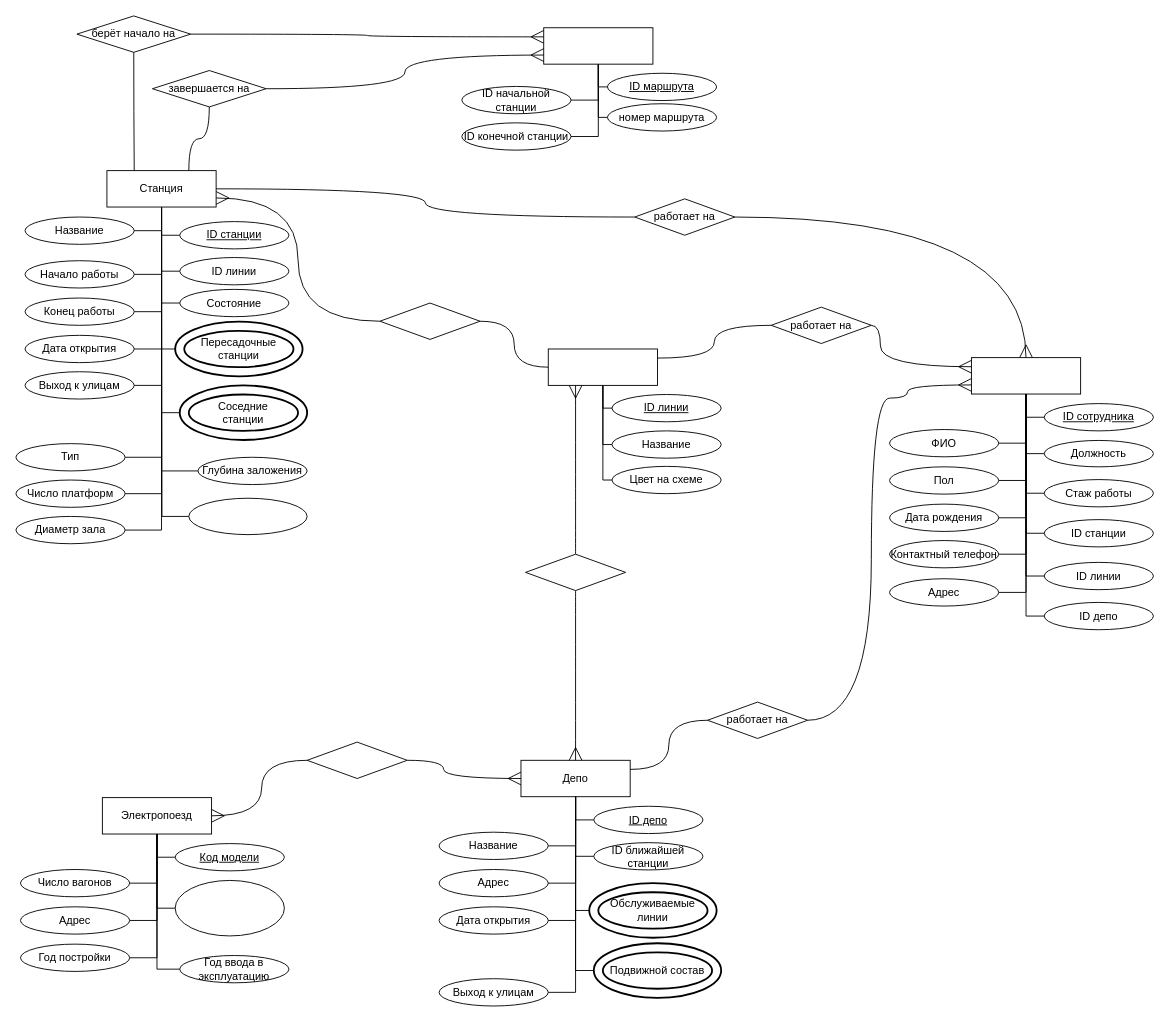
Image size: 1169x1022. Some labels were removed from this diagram. The centre of each missing label's shape, as x and y in pixels:
"входит в" goes at pixel 429 320.
"Линия" goes at pixel 602 366.
"Маршрут" goes at pixel 598 45.
"обслуживается" goes at pixel 575 572.
"Расстояние между осями тоннелей" goes at pixel 247 516.
"содержит" goes at pixel 356 760.
"Сотрудник" goes at pixel 1026 375.
"Число сидячих мест в вагоне" goes at pixel 229 908.
